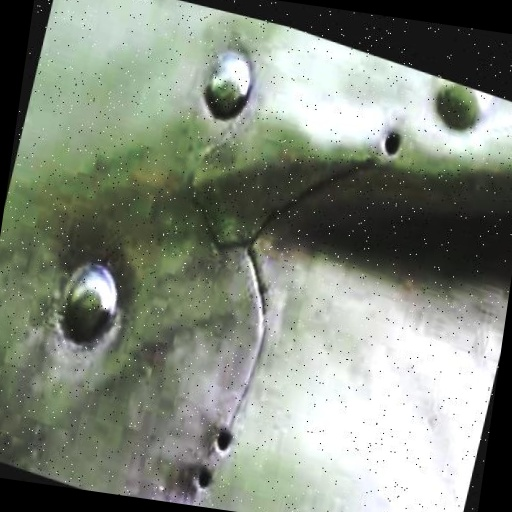crack: (71, 189, 379, 512), (89, 93, 389, 380)
